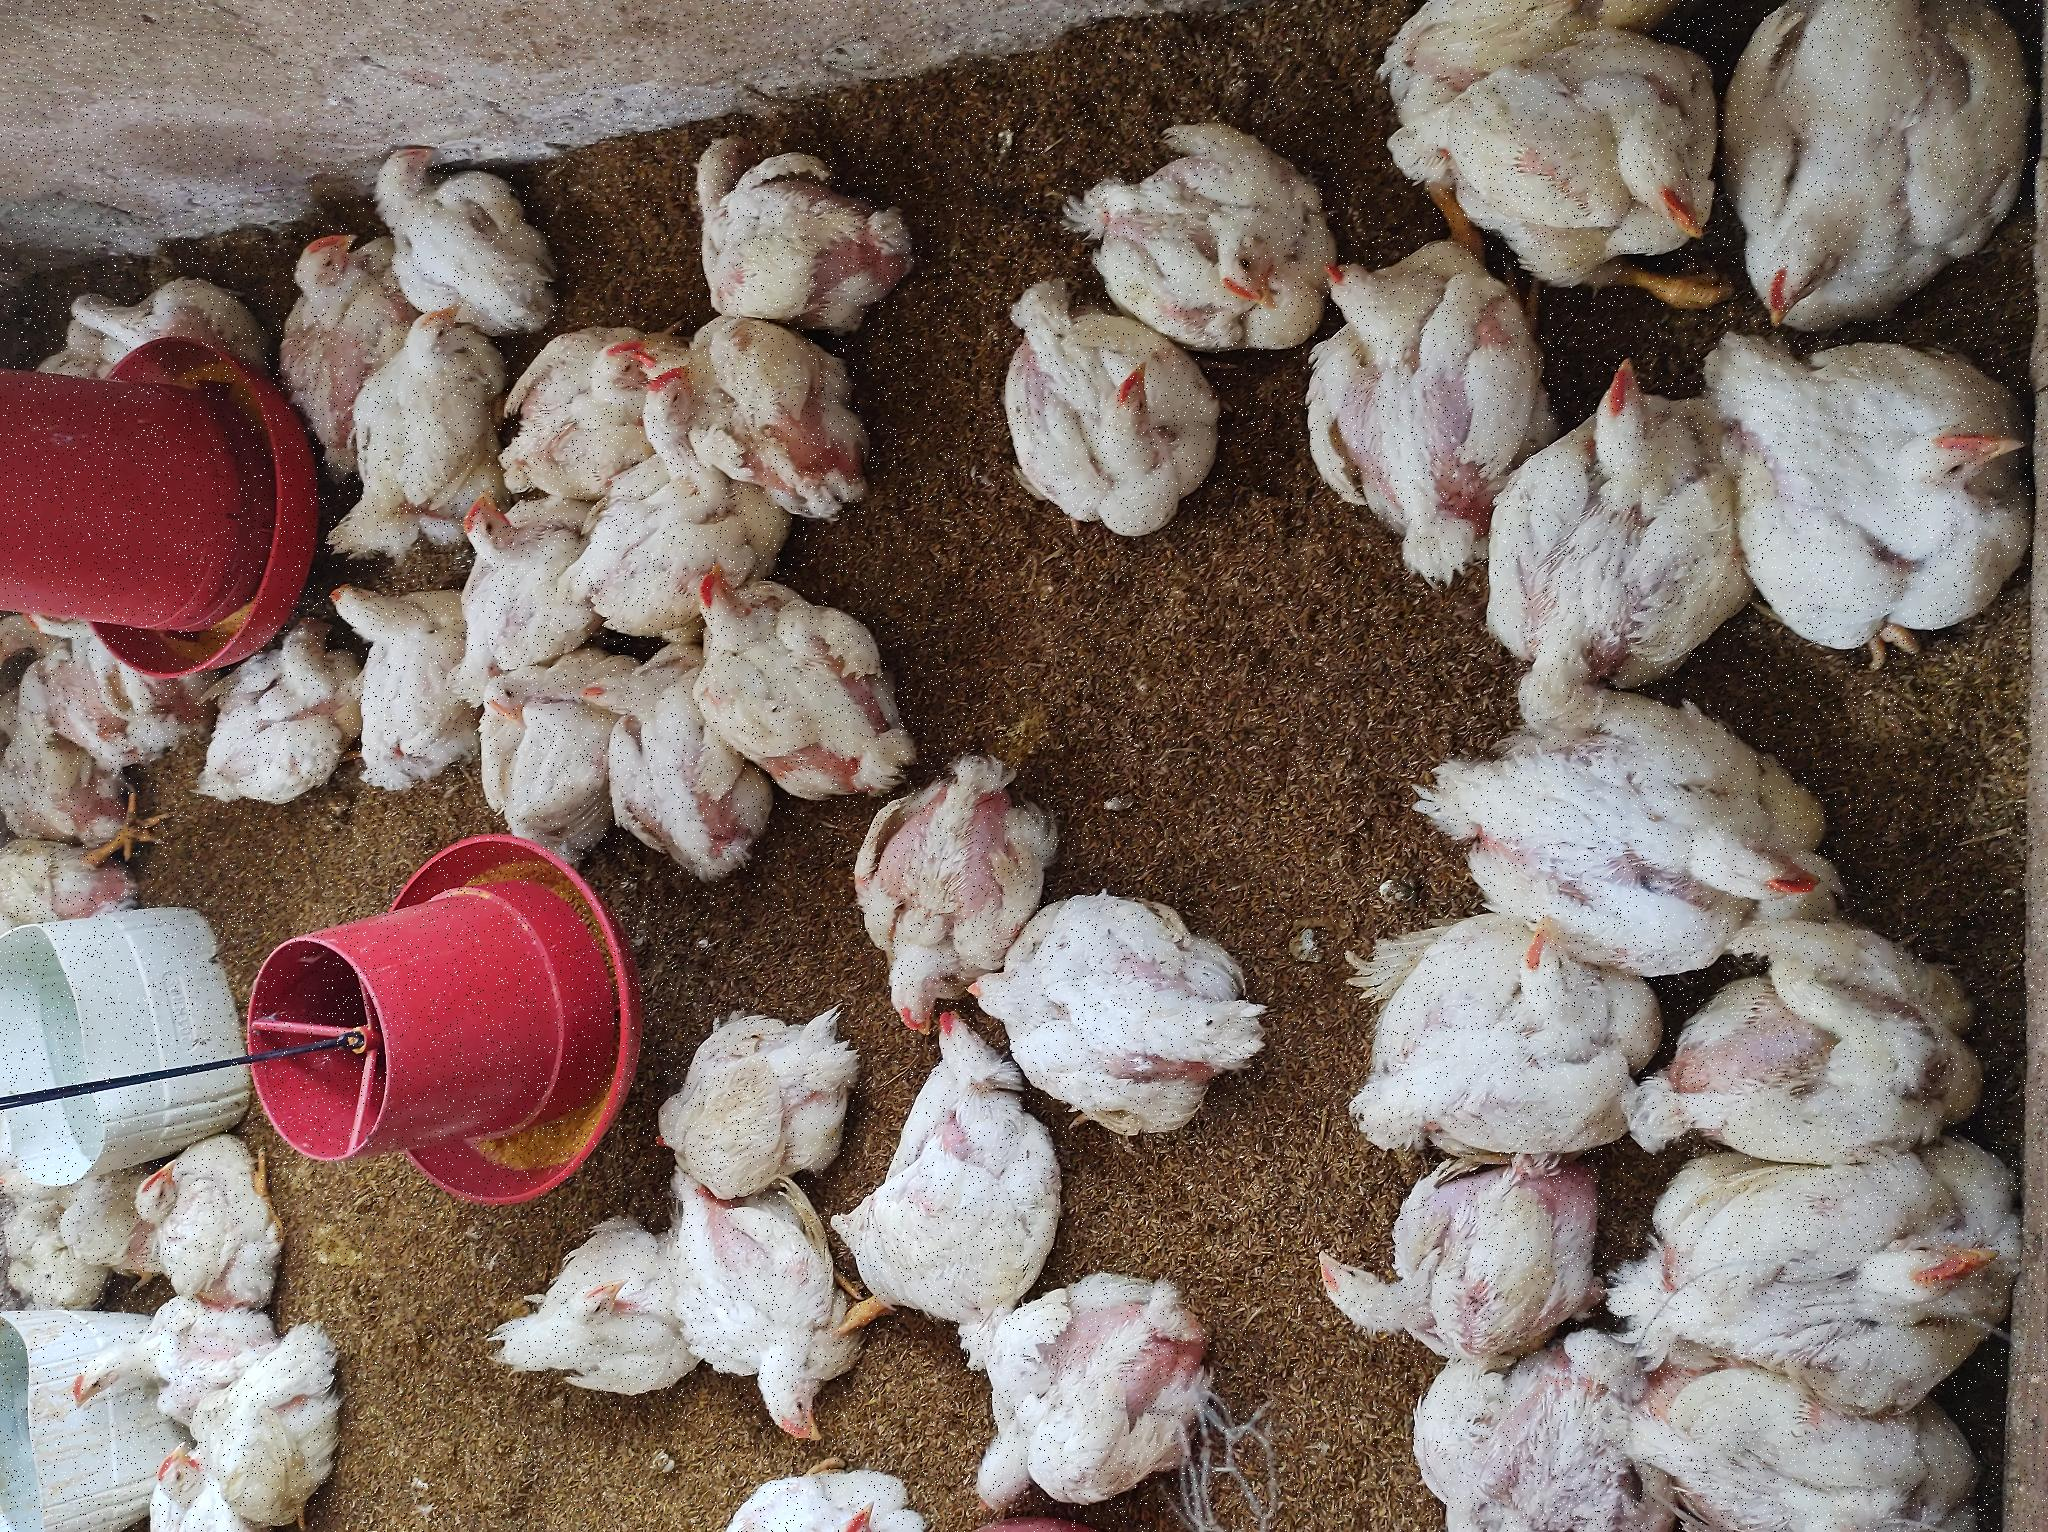Pollos: (402, 970, 679, 1249), (185, 838, 512, 1049), (1194, 1085, 1424, 1353), (993, 1308, 1256, 1532), (14, 969, 259, 1205), (72, 673, 360, 872), (997, 983, 1231, 1221), (1215, 677, 1413, 940), (372, 1339, 640, 1532), (505, 871, 775, 1062), (166, 1303, 367, 1532), (346, 645, 552, 859), (727, 702, 964, 885), (912, 550, 1165, 711), (975, 319, 1236, 472), (124, 483, 323, 669), (1232, 381, 1411, 579), (672, 591, 894, 739), (742, 336, 977, 470), (1020, 718, 1195, 892), (726, 188, 904, 348), (1216, 1419, 1467, 1532), (1026, 492, 1216, 636), (14, 196, 203, 336), (238, 137, 402, 286), (114, 68, 243, 257), (705, 467, 875, 603), (2, 1416, 196, 1532), (1128, 269, 1319, 377), (605, 1460, 866, 1532), (878, 459, 1038, 563), (598, 2, 697, 145), (2, 723, 69, 929), (1186, 72, 1260, 240), (695, 2, 780, 135), (3, 129, 108, 214), (315, 2, 388, 77)
